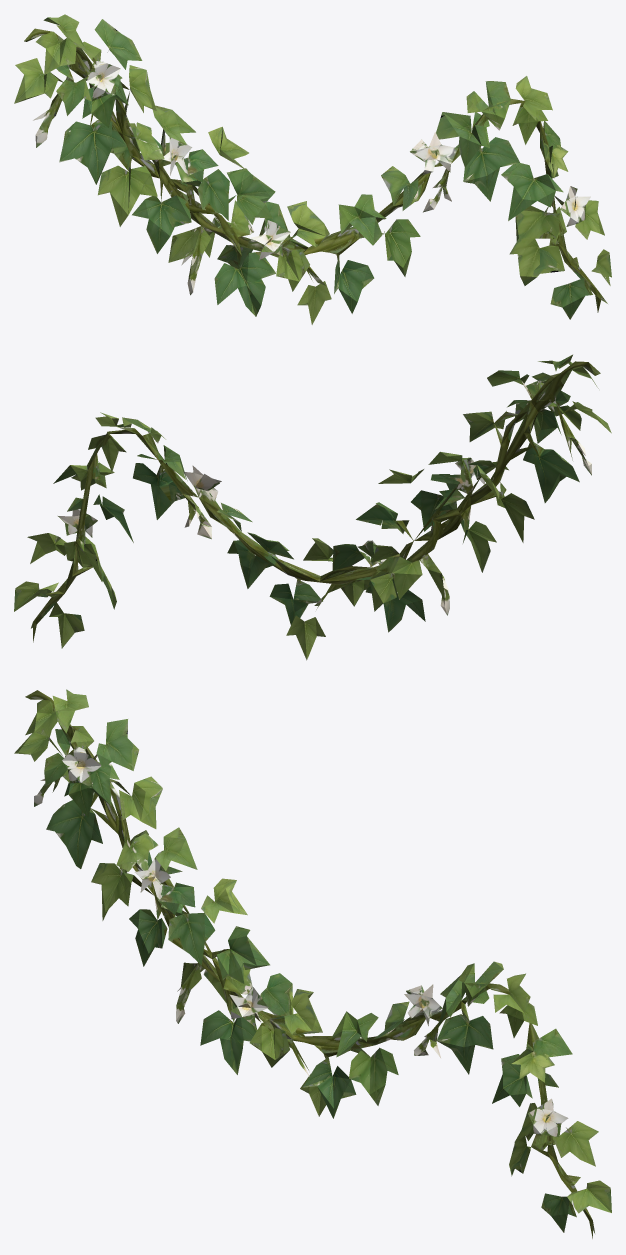
The model's file is item07.glb.
3 renders of one model, top to bottom at view 1: azimuth 30°, elevation 25°; view 2: azimuth 150°, elevation 25°; view 3: azimuth 330°, elevation 25°, orthographic.
Visible parts, largest first — view 1: output_unwrapped; view 2: output_unwrapped; view 3: output_unwrapped.
Part boxes in pixels (<box>): output_unwrapped: <box>14,14,611,324</box>; output_unwrapped: <box>14,354,611,660</box>; output_unwrapped: <box>14,689,611,1238</box>.
Bounding box in the file's own units: 1 × 0.6728 × 0.0934.
1 material, 1 textured.
